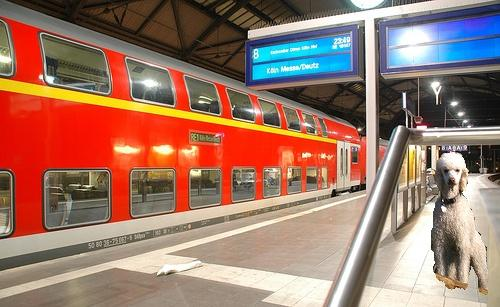tampered: (432, 153, 488, 295)
